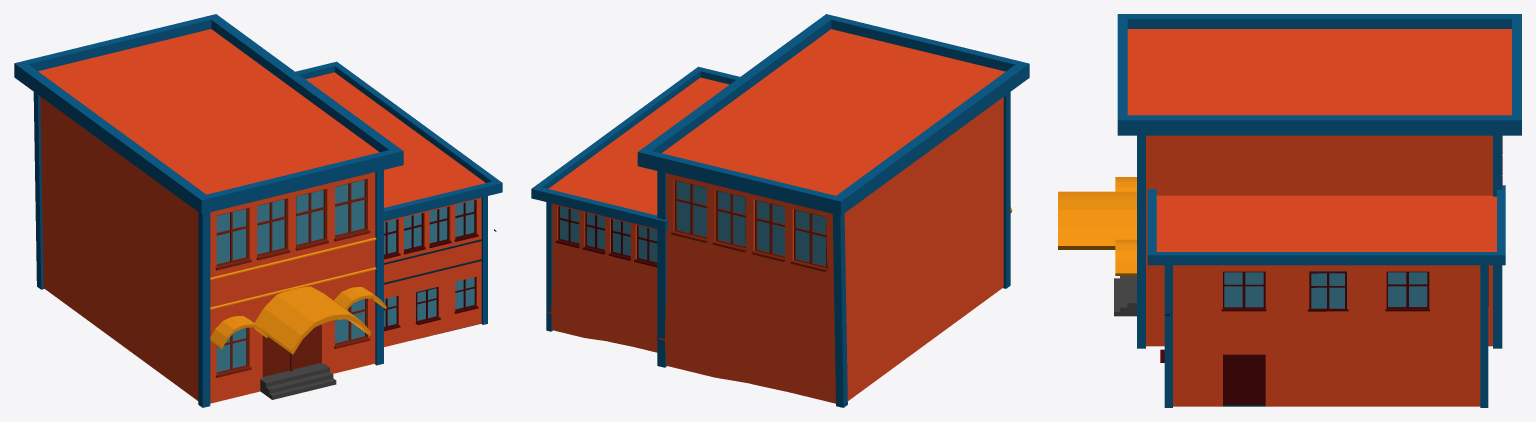
The model's file is bina2.FBX.
3 views of the same model, side by side, from view 1: azimuth 30°, elevation 25°; view 2: azimuth 150°, elevation 25°; view 3: azimuth 270°, elevation 25° (orthographic). The views are drawn at different scales.
Parts seen in each view (by area): view 1: Cube.022, Cube.023; view 2: Cube.022, Cube.023; view 3: Cube.022, Cube.023.
Part boxes in pixels (bbox=[...]): Cube.022: bbox=[14, 14, 403, 407]; Cube.023: bbox=[295, 61, 502, 346]; Cube.022: bbox=[637, 14, 1029, 407]; Cube.023: bbox=[531, 66, 739, 352]; Cube.022: bbox=[1058, 14, 1521, 348]; Cube.023: bbox=[1147, 185, 1505, 407].
Size of the model in its own units: 928 by 606 by 1091.
